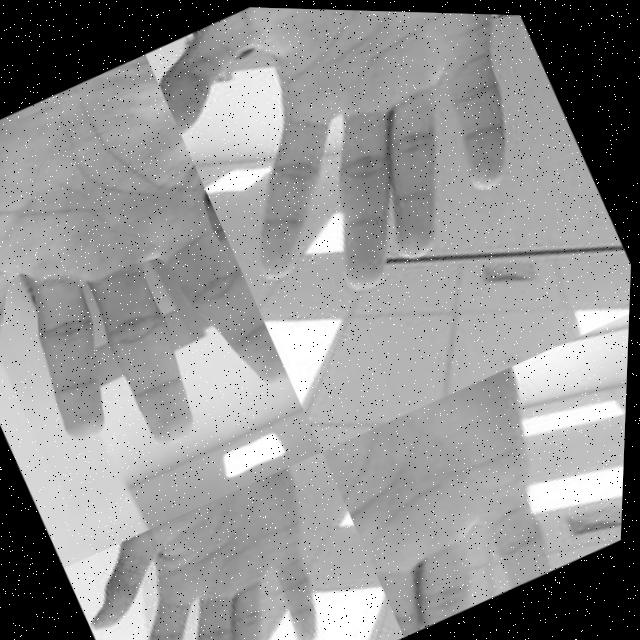hand: (135, 3, 603, 342), (0, 49, 307, 512), (318, 354, 610, 639), (65, 458, 382, 640)
